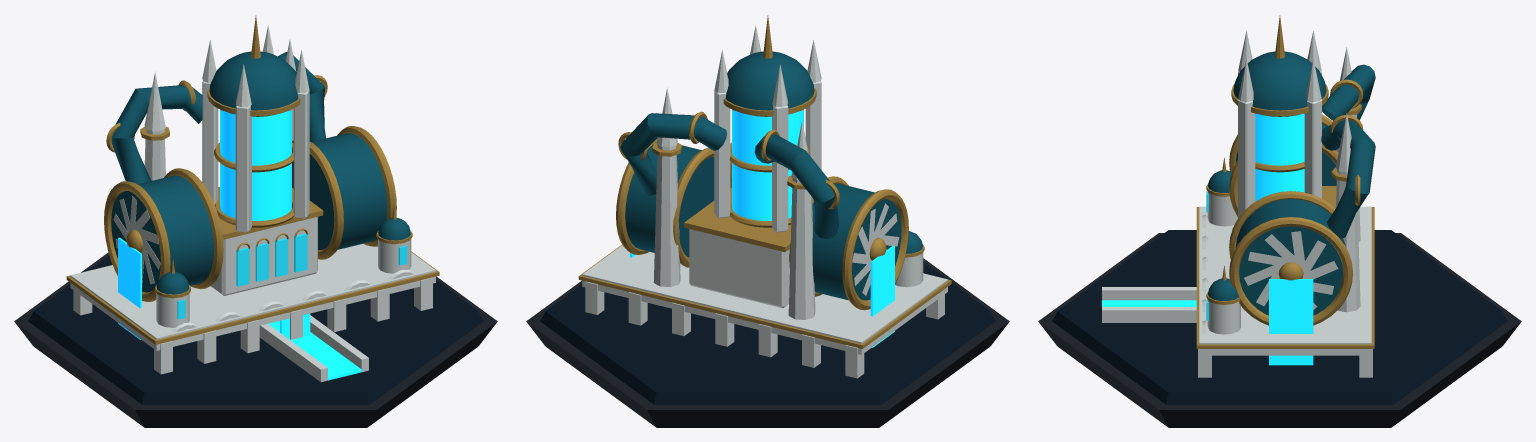
File: poseidon_tidal_pump_station.glb
The picture shows the model from 3 angles, left to right: view 1: azimuth 30°, elevation 25°; view 2: azimuth 150°, elevation 25°; view 3: azimuth 270°, elevation 25°; orthographic projection.
Visible parts, largest first — view 1: poseidon_tidal_pump_station; view 2: poseidon_tidal_pump_station; view 3: poseidon_tidal_pump_station.
Part boxes in pixels (x1,y1,x2,y2): poseidon_tidal_pump_station: [14, 15, 497, 427]; poseidon_tidal_pump_station: [526, 15, 1009, 427]; poseidon_tidal_pump_station: [1038, 15, 1521, 427].
Size of the model in its own units: 1.51 by 1.32 by 1.74.
Materials: 1 (1 with a texture image).
